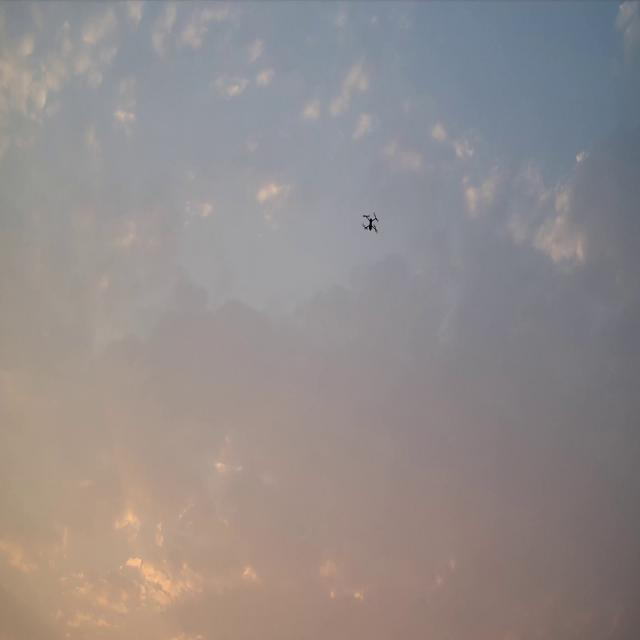drone: (361, 211, 379, 234)
